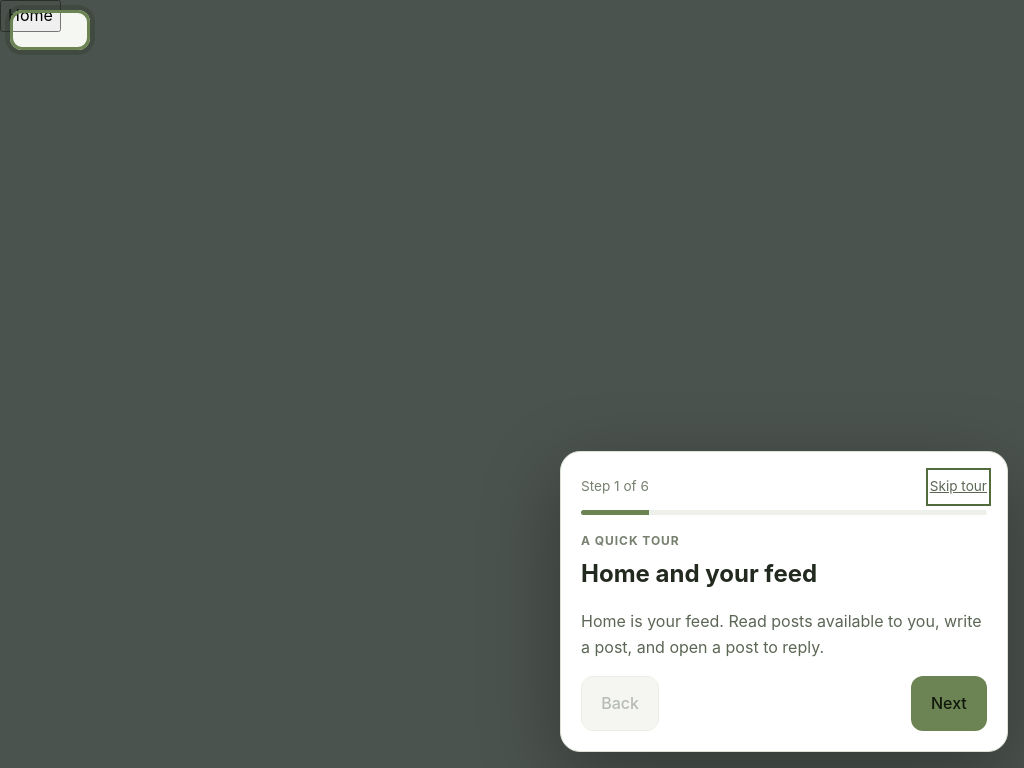
Scenario: GuidedTour › shows a usable fallback when the target is not visible
Click the button "Next" at (949, 704), box [911, 676, 987, 731]
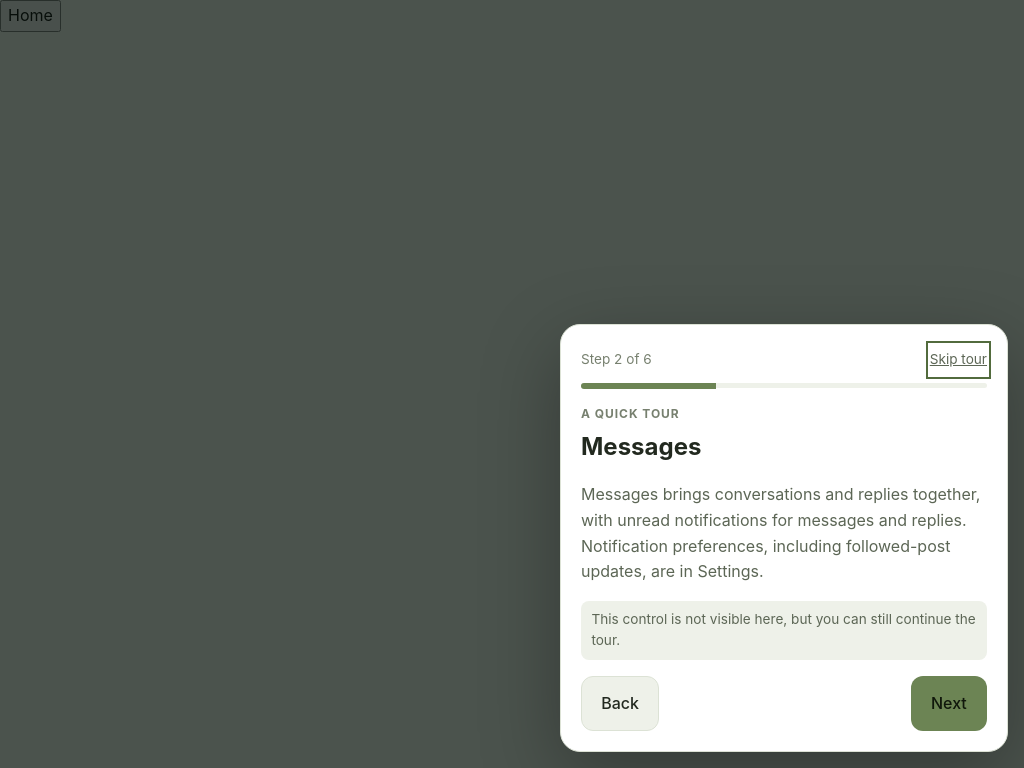
Result: the dialog with class "guided-tour-dialog" shows "This control is not visible here" at [591, 611, 976, 648]
